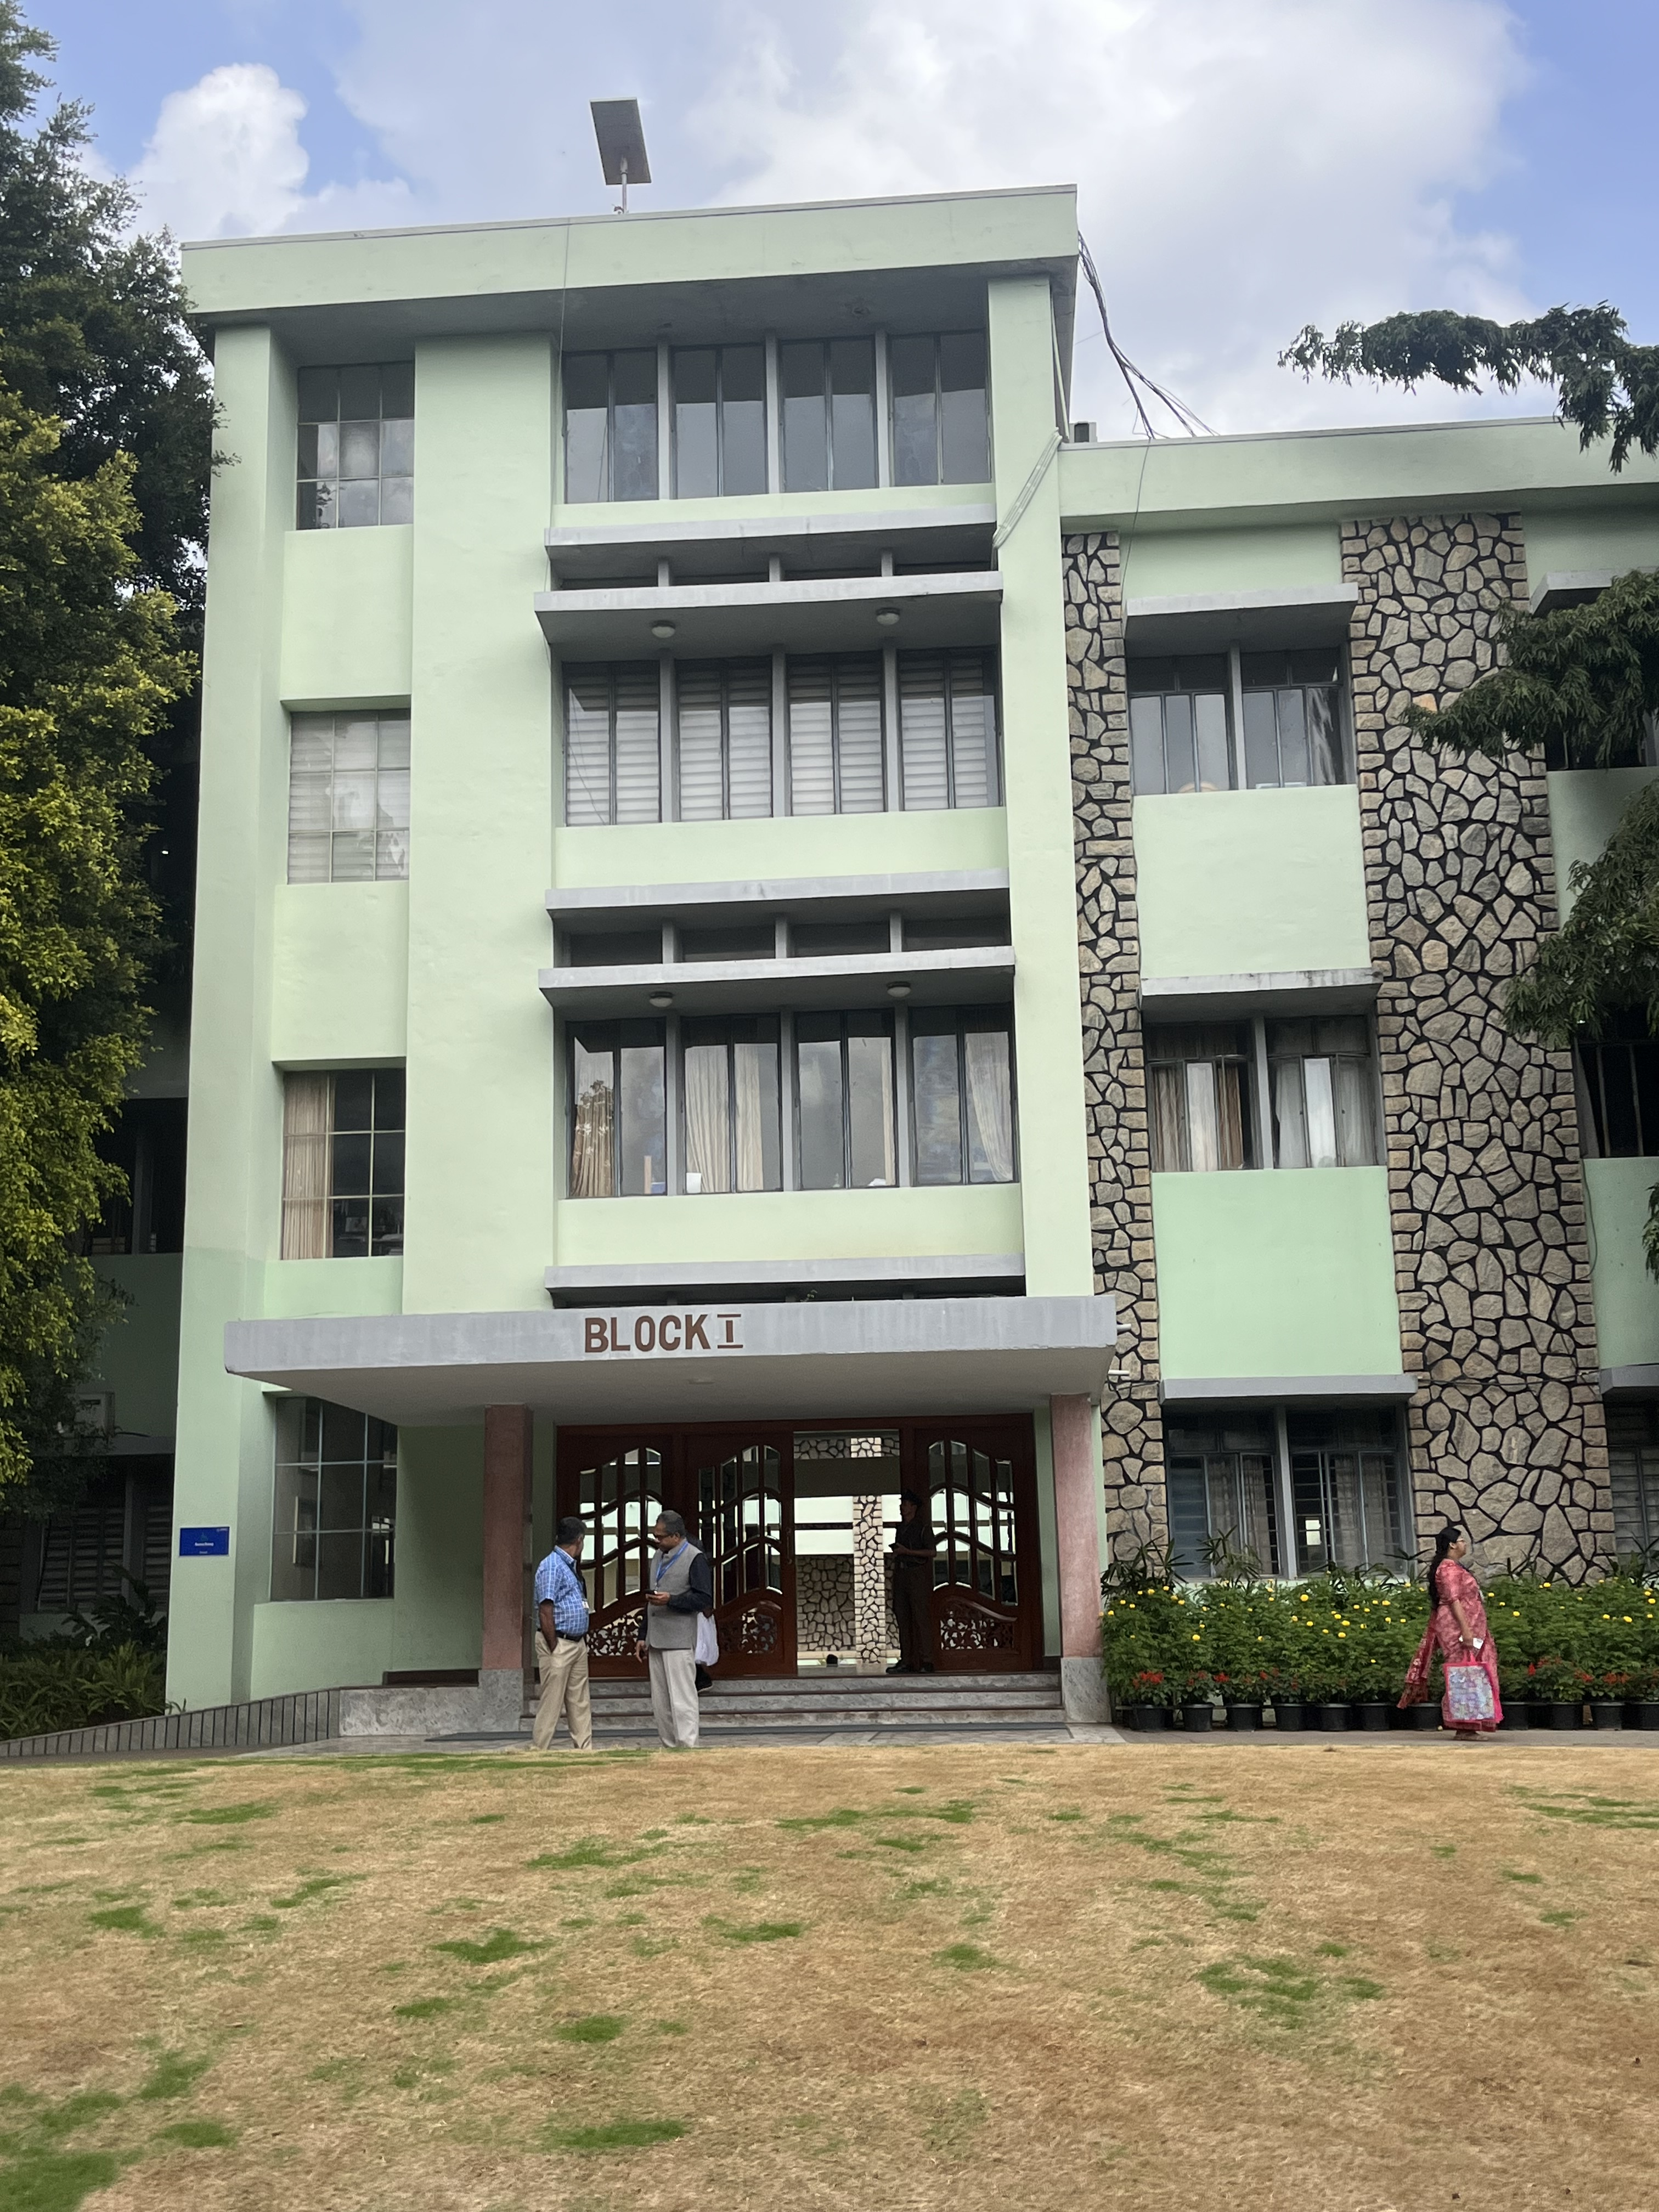Block 1: (134, 192, 1659, 1709)
